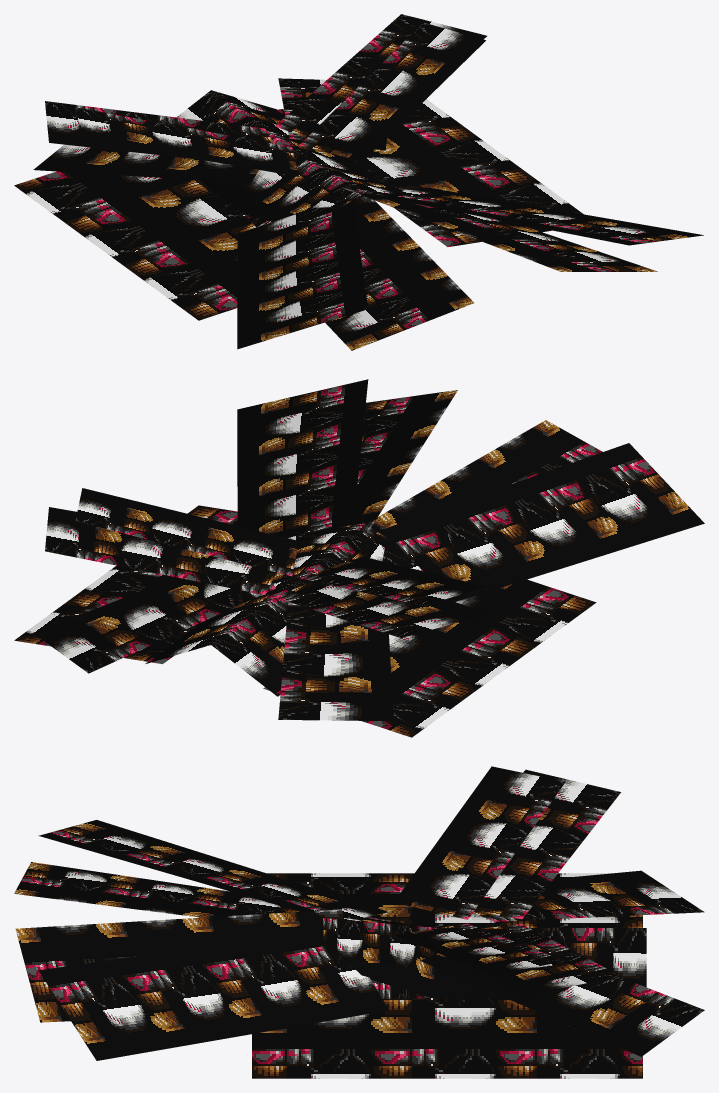
Rendered from 5047musi57.gltf.
3 views of the same model, one above another, from view 1: azimuth 30°, elevation 25°; view 2: azimuth 150°, elevation 25°; view 3: azimuth 270°, elevation 25° (orthographic). The views are drawn at different scales.
Parts seen in each view (by area): view 1: 5047musi57; view 2: 5047musi57; view 3: 5047musi57.
Part boxes in pixels (<box>): 5047musi57: <box>14,14,703,350</box>; 5047musi57: <box>14,379,704,737</box>; 5047musi57: <box>14,766,704,1078</box>.
Size of the model in its own units: 0.2915 by 0.0593 by 0.3528.
Materials: 7 (7 with a texture image).
